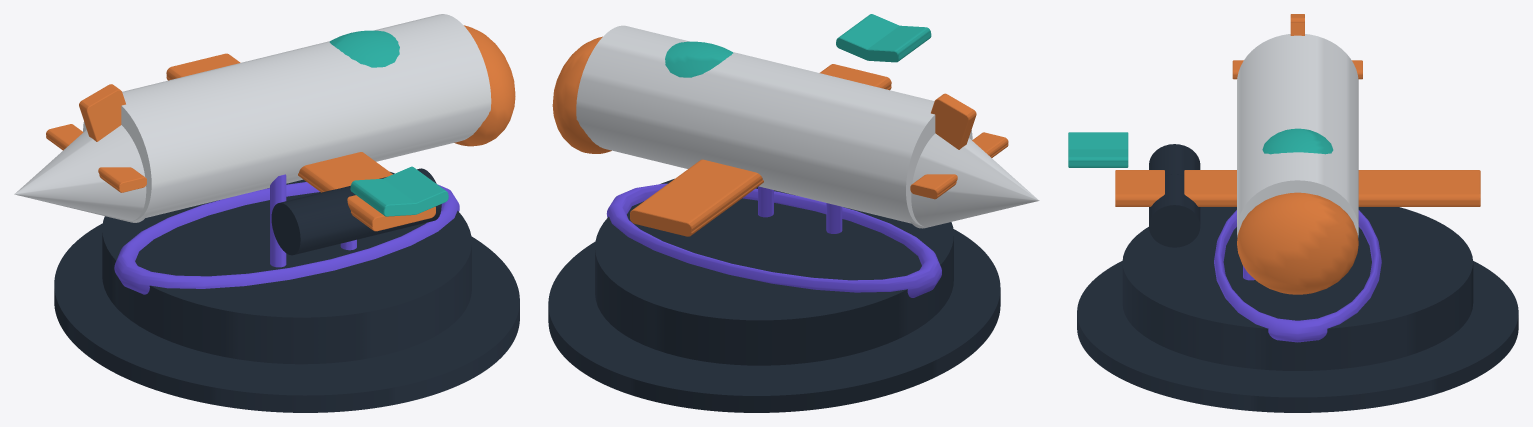
The model's file is 0344_航空航天图鉴_塞斯纳-172飞机.glb.
3 views of the same model, side by side, from view 1: azimuth 30°, elevation 25°; view 2: azimuth 150°, elevation 25°; view 3: azimuth 270°, elevation 25° (orthographic). The views are drawn at different scales.
Visible parts, largest first — view 1: card_0344; view 2: card_0344; view 3: card_0344.
Part boxes in pixels (bbox=[...]): card_0344: bbox=[14, 14, 519, 412]; card_0344: bbox=[548, 14, 1039, 412]; card_0344: bbox=[1068, 14, 1518, 412].
Size of the model in its own units: 1.93 by 1 by 1.74.
